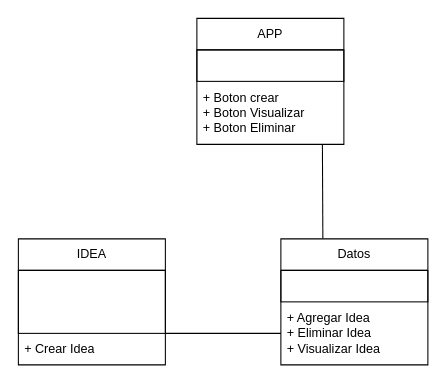
Image size: 446x383. Some labels were removed from this diagram. Each missing label, with the box of its shape:
- Titulo - Descripcion - Categoria - Estado: (17, 269, 165, 333)
- Vec Idea[]: (280, 269, 428, 302)
